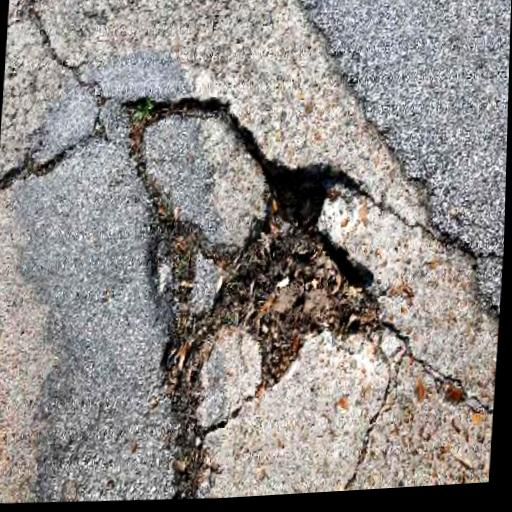pothole: (97, 74, 399, 457)
